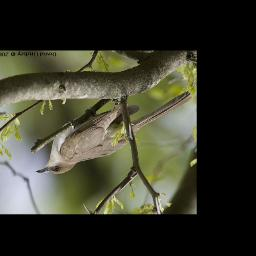Cuckoo: (37, 91, 194, 176)
